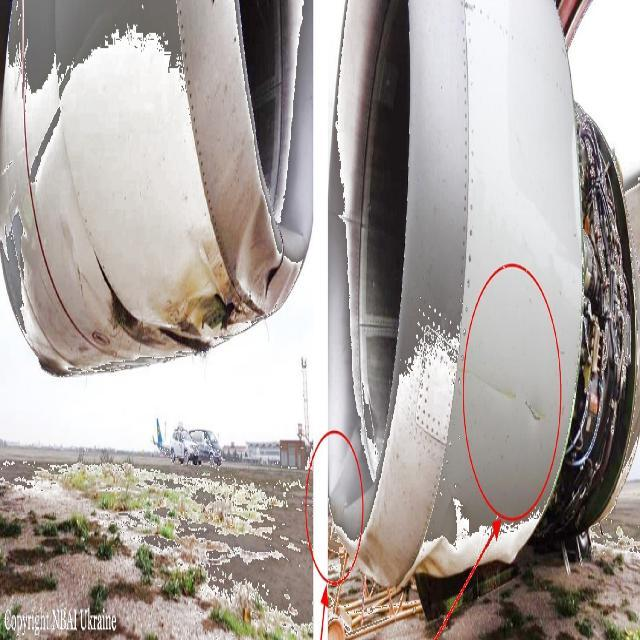crack: (523, 407, 546, 430)
dent: (234, 190, 271, 303), (396, 537, 454, 597)
